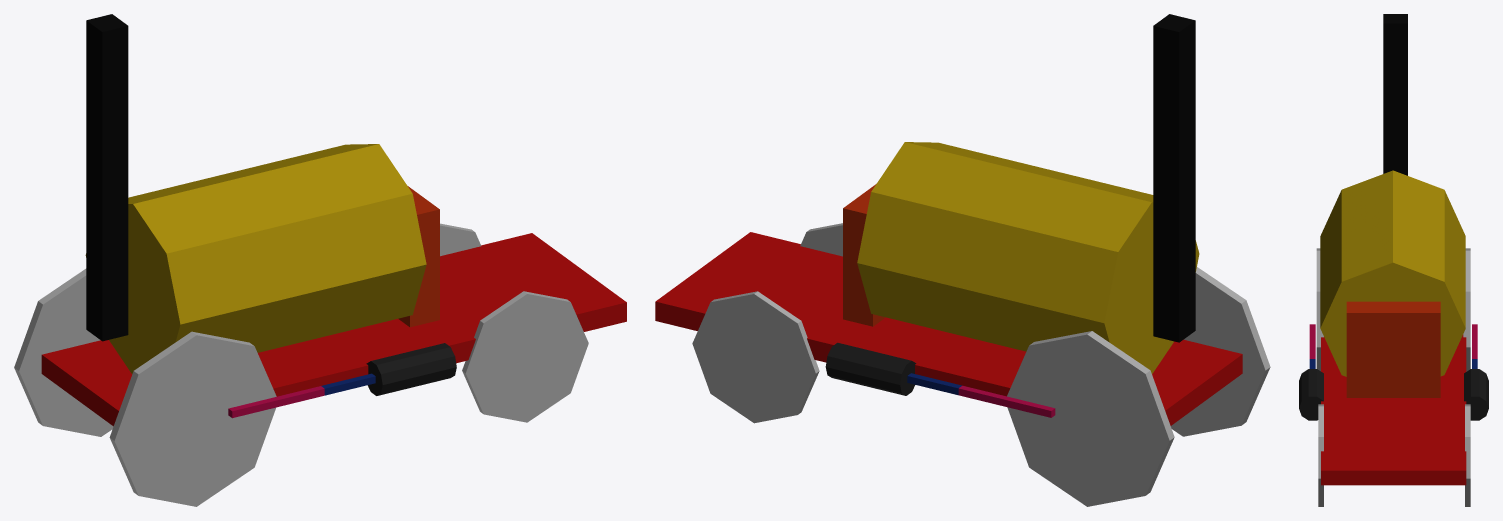
File: simple_locomotive.obj
3 views of the same model, side by side, from view 1: azimuth 30°, elevation 25°; view 2: azimuth 150°, elevation 25°; view 3: azimuth 270°, elevation 25° (orthographic). The views are drawn at different scales.
Visible parts, largest first — view 1: Chaudiere_Circle.001, Chassis_Plane, Roue_AVG_Circle.002, Chemine_Plane.001, Roue_ARG_Circle.006, Roue_AVD_Circle.004, Cylindre_G_Cylinder, Commandes_Cube, Bras_entrainement_G_Cube.002, Roue_ARD_Circle.005; view 2: Chaudiere_Circle.001, Chassis_Plane, Roue_AVD_Circle.004, Chemine_Plane.001, Roue_ARD_Circle.005, Roue_AVG_Circle.002, Cylindre_D_Cylinder.002, Commandes_Cube, Bras_entrainement_D_Cube.005, Roue_ARG_Circle.006; view 3: Chaudiere_Circle.001, Chassis_Plane, Commandes_Cube, Chemine_Plane.001, Cylindre_G_Cylinder, Cylindre_D_Cylinder.002, Roue_AVD_Circle.004, Roue_AVG_Circle.002, Roue_ARD_Circle.005, Roue_ARG_Circle.006, Bras_entrainement_G_Cube.002.
Boxes of the visible parts, x1=… form: Chaudiere_Circle.001: x1=85, y1=144, x2=426, y2=373; Chassis_Plane: x1=41, y1=233, x2=626, y2=426; Roue_AVG_Circle.002: x1=109, y1=331, x2=276, y2=506; Chemine_Plane.001: x1=86, y1=14, x2=128, y2=341; Roue_ARG_Circle.006: x1=462, y1=291, x2=588, y2=422; Roue_AVD_Circle.004: x1=14, y1=268, x2=113, y2=436; Cylindre_G_Cylinder: x1=366, y1=343, x2=456, y2=395; Commandes_Cube: x1=398, y1=186, x2=439, y2=327; Bras_entrainement_G_Cube.002: x1=228, y1=386, x2=324, y2=418; Roue_ARD_Circle.005: x1=440, y1=223, x2=480, y2=256; Chaudiere_Circle.001: x1=857, y1=142, x2=1199, y2=373; Chassis_Plane: x1=655, y1=232, x2=1242, y2=425; Roue_AVD_Circle.004: x1=1007, y1=331, x2=1174, y2=506; Chemine_Plane.001: x1=1153, y1=14, x2=1195, y2=342; Roue_ARD_Circle.005: x1=692, y1=291, x2=819, y2=423; Roue_AVG_Circle.002: x1=1170, y1=267, x2=1270, y2=436; Cylindre_D_Cylinder.002: x1=825, y1=342, x2=916, y2=395; Commandes_Cube: x1=843, y1=184, x2=885, y2=326; Bras_entrainement_D_Cube.005: x1=958, y1=385, x2=1055, y2=417; Roue_ARG_Circle.006: x1=800, y1=223, x2=842, y2=256; Chaudiere_Circle.001: x1=1320, y1=170, x2=1465, y2=376; Chassis_Plane: x1=1321, y1=334, x2=1466, y2=485; Commandes_Cube: x1=1346, y1=301, x2=1440, y2=397; Chemine_Plane.001: x1=1383, y1=14, x2=1407, y2=175; Cylindre_G_Cylinder: x1=1299, y1=369, x2=1323, y2=420; Cylindre_D_Cylinder.002: x1=1464, y1=369, x2=1488, y2=420; Roue_AVD_Circle.004: x1=1463, y1=248, x2=1470, y2=371; Roue_AVG_Circle.002: x1=1316, y1=248, x2=1323, y2=371; Roue_ARD_Circle.005: x1=1465, y1=404, x2=1470, y2=506; Roue_ARG_Circle.006: x1=1318, y1=404, x2=1323, y2=506; Bras_entrainement_G_Cube.002: x1=1309, y1=324, x2=1315, y2=358.
Bounding box in the file's own units: 6.28 × 5.3 × 2.61.
